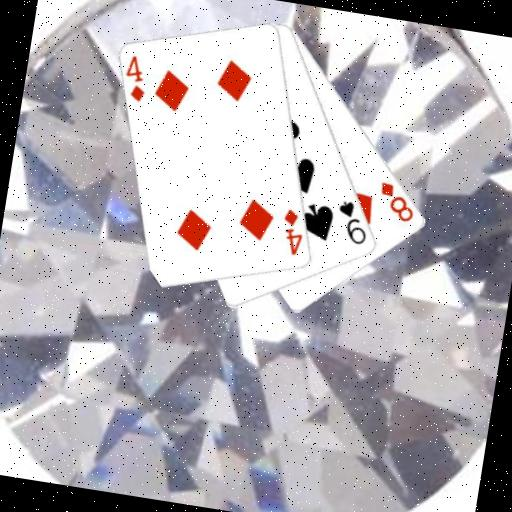4D: (276, 205, 309, 258), (119, 52, 152, 105)
8D: (373, 178, 421, 225)
9S: (330, 196, 373, 248)
